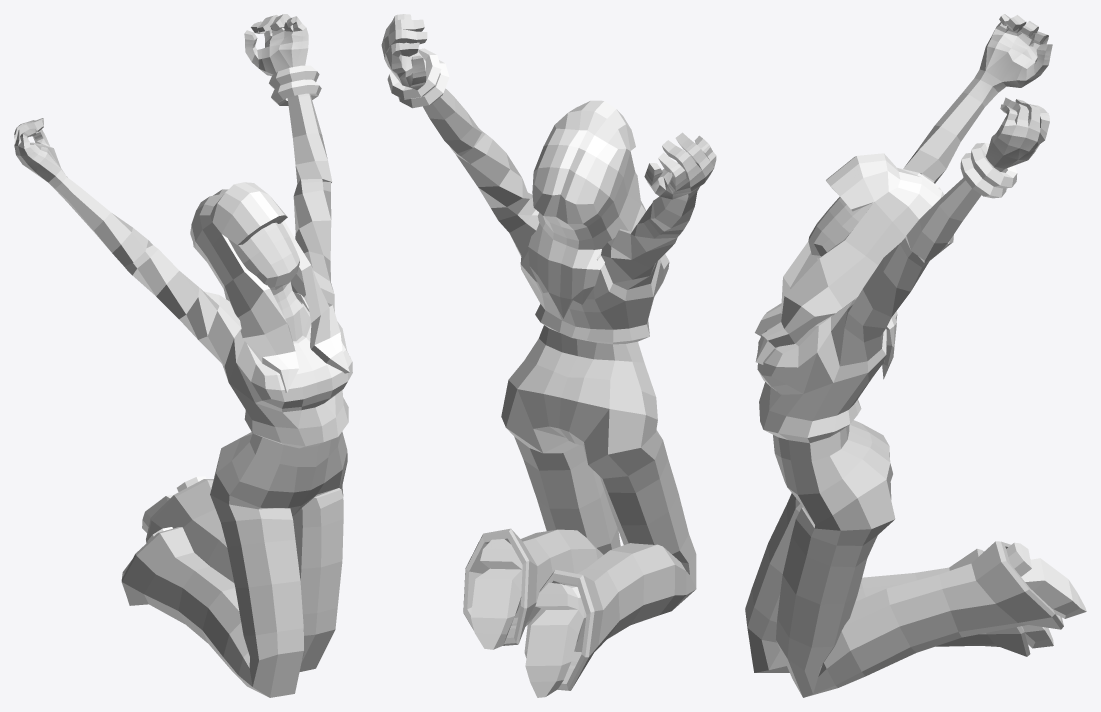
File: Cutscene03.FBX
The picture shows the model from 3 angles, left to right: view 1: azimuth 30°, elevation 25°; view 2: azimuth 150°, elevation 25°; view 3: azimuth 270°, elevation 25°; orthographic projection. The views are drawn at different scales.
Parts seen in each view (by area): view 1: scene_03; view 2: scene_03; view 3: scene_03.
Part boxes in pixels (<box>): scene_03: <box>14,14,352,697</box>; scene_03: <box>381,14,716,697</box>; scene_03: <box>745,14,1086,697</box>.
Bounding box in the file's own units: 1.12 × 1.02 × 2.08.
Materials: 1 (1 with a texture image).
